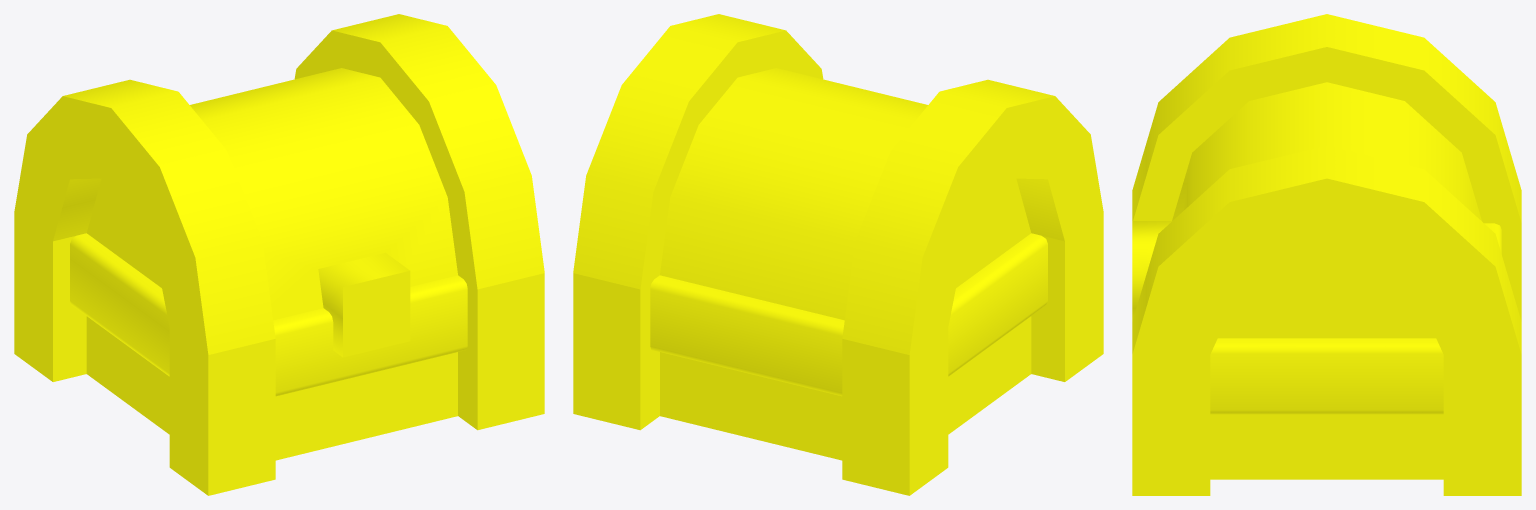
3 renders of one model, left to right at view 1: azimuth 30°, elevation 25°; view 2: azimuth 150°, elevation 25°; view 3: azimuth 270°, elevation 25°, orthographic.
Visible parts, largest first — view 1: lid, chest; view 2: lid, chest; view 3: lid, chest.
Part boxes in pixels (left/top/right/bottom): lid: left=14, top=14, right=544, bottom=357; chest: left=14, top=213, right=544, bottom=495; lid: left=573, top=14, right=1103, bottom=354; chest: left=573, top=213, right=1103, bottom=495; lid: left=1132, top=14, right=1521, bottom=354; chest: left=1132, top=223, right=1521, bottom=495.
Bounding box in the file's own units: 0.5 × 0.45 × 0.5.
1 material, 1 textured.
